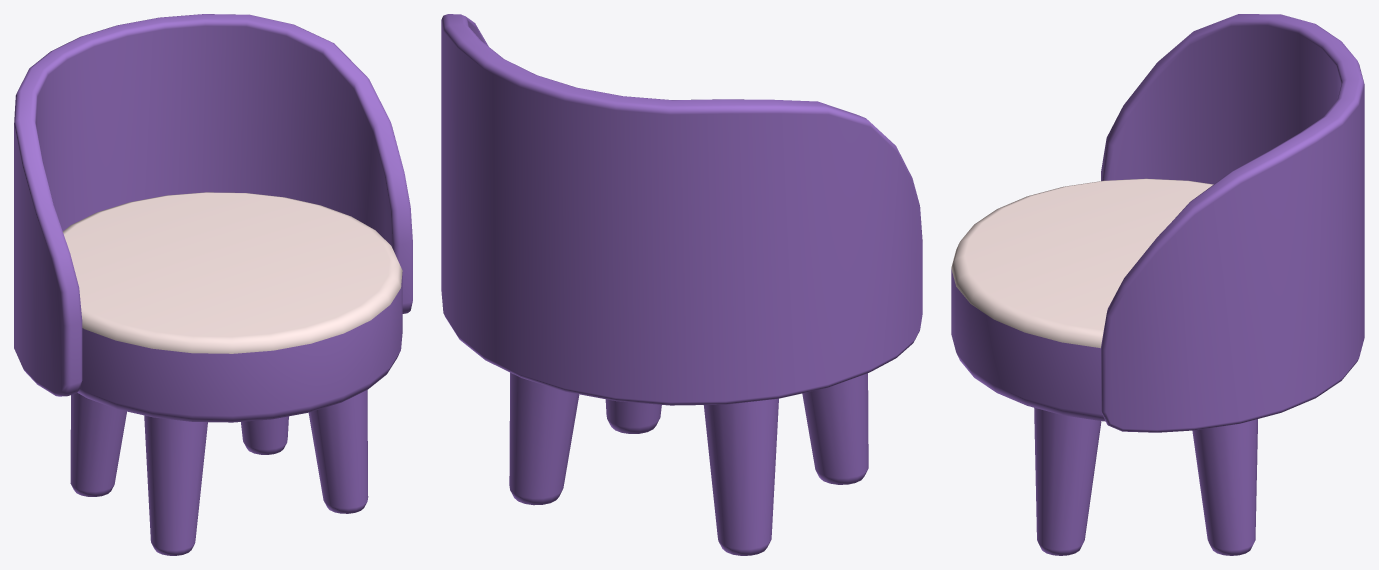
Rendered from City_16_Chair_1.glb.
3 renders of one model, left to right at view 1: azimuth 30°, elevation 25°; view 2: azimuth 150°, elevation 25°; view 3: azimuth 270°, elevation 25°, orthographic. The views are drawn at different scales.
Visible parts, largest first — view 1: City_16_Chair_1; view 2: City_16_Chair_1; view 3: City_16_Chair_1.
Part boxes in pixels (x1=…): City_16_Chair_1: x1=14, y1=14, x2=412, y2=555; City_16_Chair_1: x1=441, y1=14, x2=922, y2=555; City_16_Chair_1: x1=951, y1=14, x2=1364, y2=555.
Size of the model in its own units: 0.8223 by 0.8853 by 0.7781.
1 material, 1 textured.
